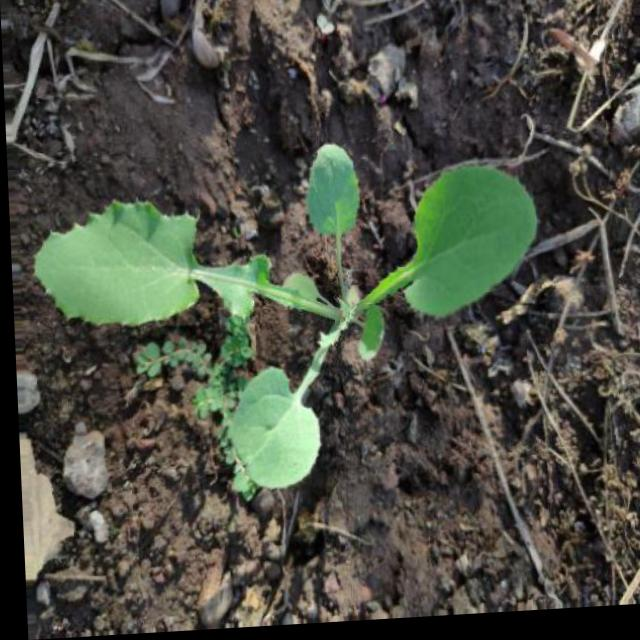weed: (25, 116, 572, 519)
